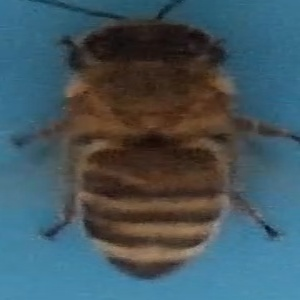bee: (22, 1, 300, 282)
